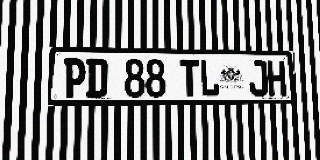8: (124, 59, 145, 97), (146, 59, 166, 97)
D: (86, 58, 108, 98)
H: (267, 61, 286, 96)
J: (249, 60, 268, 96)
L: (200, 60, 219, 97)
P: (63, 58, 86, 98)
T: (180, 59, 200, 97)
